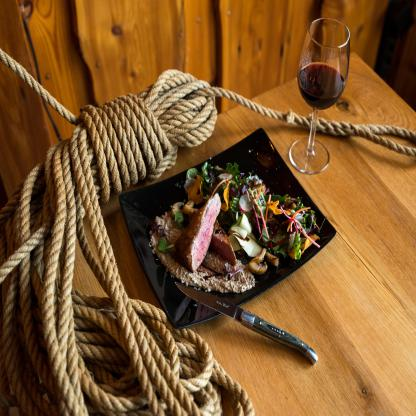Carne: (177, 190, 222, 266)
